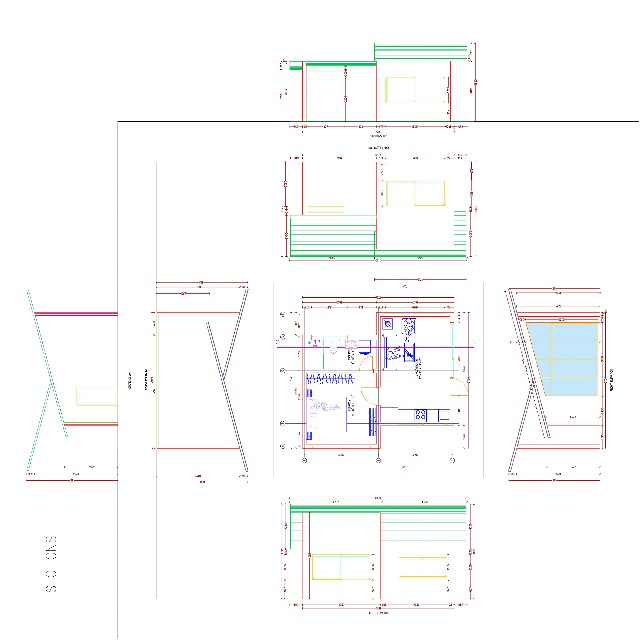door: (450, 376, 469, 397), (361, 386, 379, 407), (359, 355, 374, 371)
